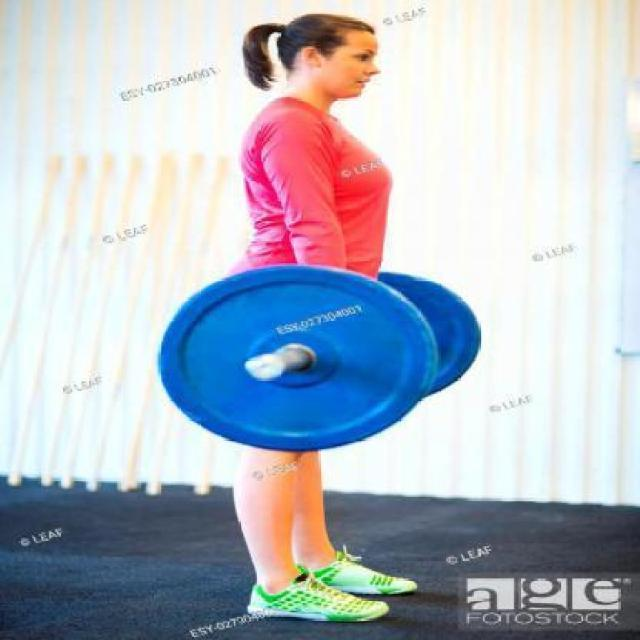barbell: (151, 260, 445, 460)
